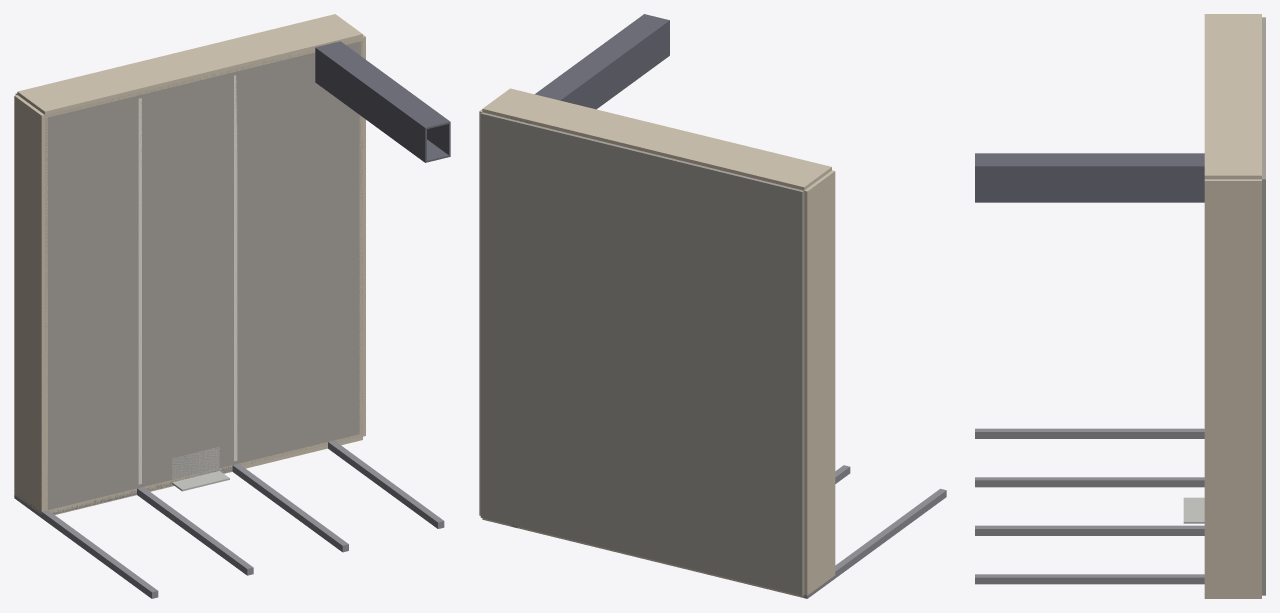
The picture shows the model from 3 angles, left to right: view 1: azimuth 30°, elevation 25°; view 2: azimuth 150°, elevation 25°; view 3: azimuth 270°, elevation 25°; orthographic projection. The views are drawn at different scales.
Parts seen in each view (by area): view 1: slab_slab_f1, wall_wall_f0_4, wall_wall_f0_3, elevator_elevator_1, wall_wall_f0_2, wall_wall_f0_1, col_col_A1_1, balcony_balcony_f1_1, wall_wall_f0_5, col_col_A2_1, col_col_A3_1, col_col_A4_1 (+1 smaller); view 2: slab_slab_f0, wall_wall_f0_4, wall_wall_f0_3, elevator_elevator_1, col_col_A1_1, wall_wall_f0_2, wall_wall_f0_1; view 3: wall_wall_f0_2, elevator_elevator_1, wall_wall_f0_3, col_col_A1_1, col_col_A2_1, col_col_A3_1, col_col_A4_1, slab_slab_f0, balcony_balcony_f1_1.
Boxes of the visible parts, <box> form: slab_slab_f1: <box>45,41,362,509</box>; wall_wall_f0_4: <box>14,95,47,514</box>; wall_wall_f0_3: <box>17,14,362,118</box>; elevator_elevator_1: <box>315,41,450,162</box>; wall_wall_f0_2: <box>359,35,365,436</box>; wall_wall_f0_1: <box>48,433,362,514</box>; col_col_A1_1: <box>14,495,158,598</box>; balcony_balcony_f1_1: <box>172,447,229,491</box>; wall_wall_f0_5: <box>138,98,141,484</box>; col_col_A2_1: <box>137,487,253,575</box>; col_col_A3_1: <box>232,463,348,552</box>; col_col_A4_1: <box>328,440,444,528</box>; slab_slab_f0: <box>480,112,804,595</box>; wall_wall_f0_4: <box>804,170,835,595</box>; wall_wall_f0_3: <box>482,88,831,190</box>; elevator_elevator_1: <box>505,14,669,123</box>; col_col_A1_1: <box>801,488,946,598</box>; wall_wall_f0_2: <box>479,109,482,515</box>; wall_wall_f0_1: <box>482,518,804,597</box>; wall_wall_f0_2: <box>1204,179,1261,596</box>; elevator_elevator_1: <box>975,153,1204,202</box>; wall_wall_f0_3: <box>1204,14,1261,179</box>; col_col_A1_1: <box>975,428,1204,438</box>; col_col_A2_1: <box>975,477,1204,487</box>; col_col_A3_1: <box>975,525,1204,535</box>; col_col_A4_1: <box>975,574,1204,584</box>; slab_slab_f0: <box>1262,17,1265,595</box>; balcony_balcony_f1_1: <box>1183,497,1204,523</box>.
Size of the model in its own units: 20.4 by 24.4 by 15.2.
